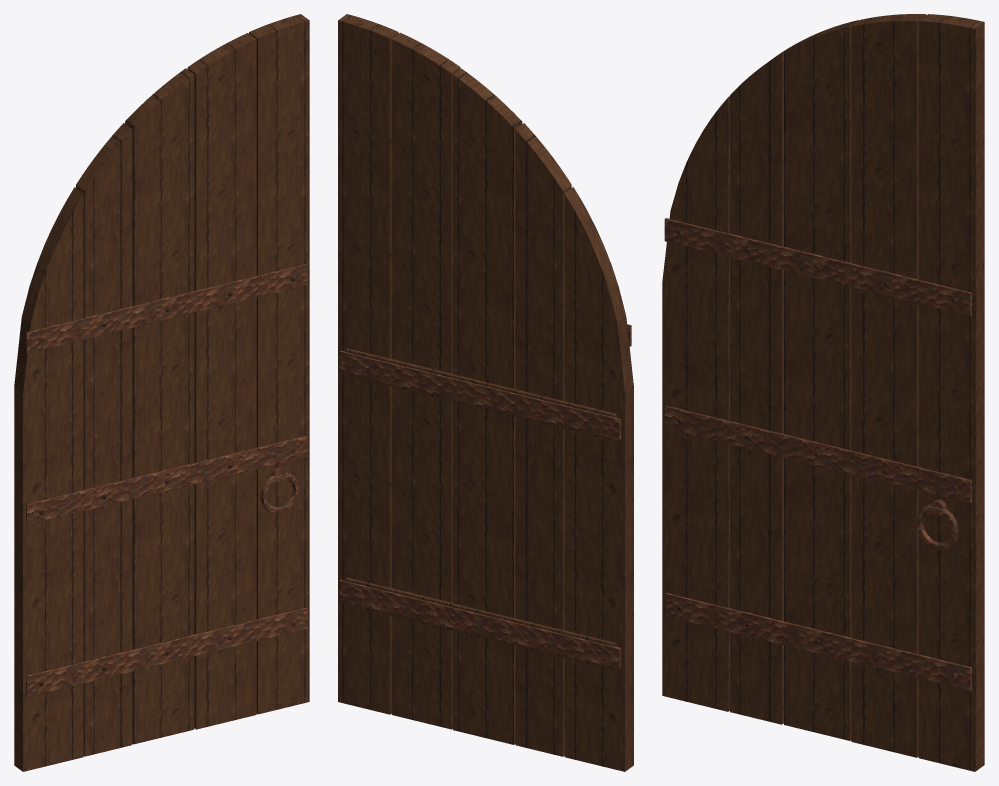
File: gate_leaf__cut_stone.glb
3 renders of one model, left to right at view 1: azimuth 30°, elevation 25°; view 2: azimuth 150°, elevation 25°; view 3: azimuth 330°, elevation 25°, orthographic. The views are drawn at different scales.
Parts seen in each view (by area): view 1: model; view 2: model; view 3: model.
Boxes of the visible parts, x1,y1,x2,y2 form: model: (14,14,309,771); model: (338,14,633,771); model: (662,14,984,771).
Size of the model in its own units: 1.57 by 3.57 by 0.1369.
Materials: 3 (3 with a texture image).
